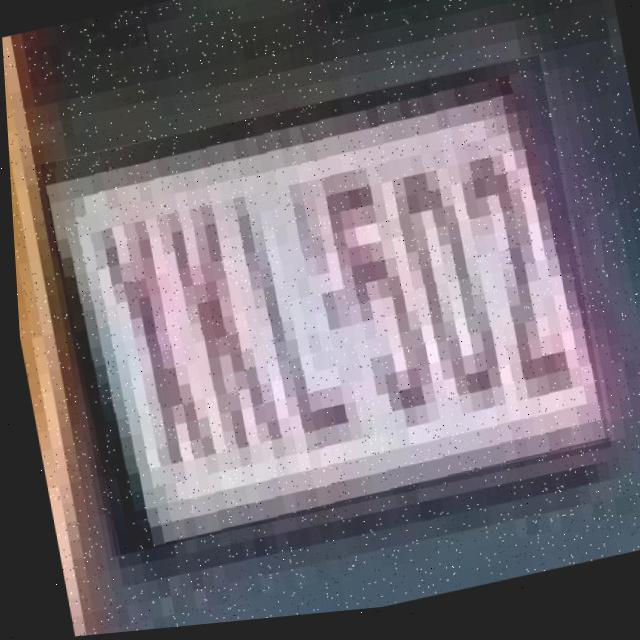LicensePlate: (35, 61, 608, 562)
